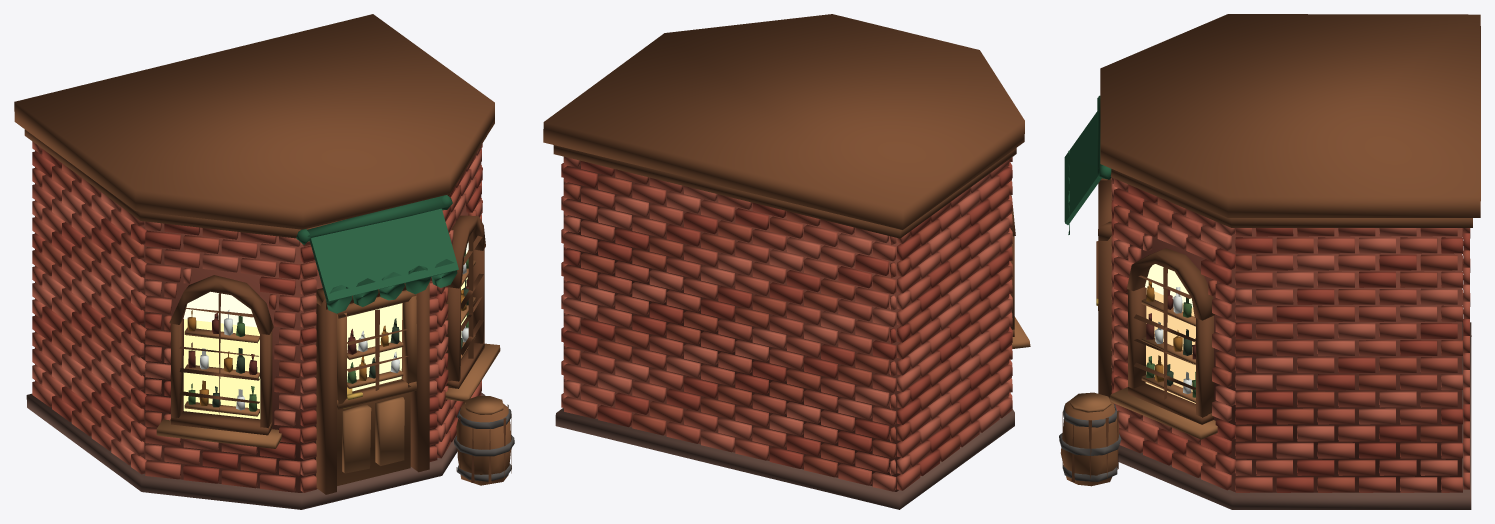
Rendered from bar.glb.
3 views of the same model, side by side, from view 1: azimuth 30°, elevation 25°; view 2: azimuth 150°, elevation 25°; view 3: azimuth 270°, elevation 25° (orthographic). The views are drawn at different scales.
Parts seen in each view (by area): view 1: bar; view 2: bar; view 3: bar.
Boxes of the visible parts, <box> form: bar: <box>14,14,514,509</box>; bar: <box>543,14,1030,509</box>; bar: <box>1059,14,1480,509</box>.
Bounding box in the file's own units: 2.52 × 2.05 × 2.46.
